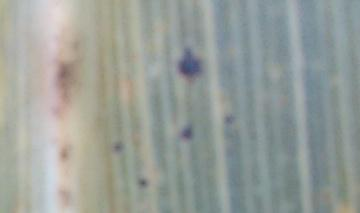tarspot: (175, 48, 203, 83), (178, 124, 194, 141), (112, 141, 124, 156), (223, 115, 234, 125), (138, 178, 148, 188)
